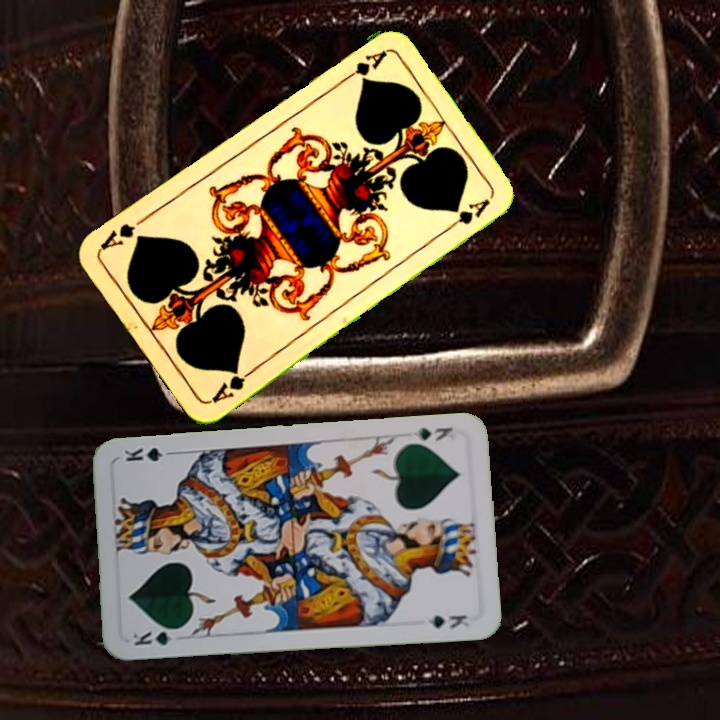GA: (207, 364, 258, 406), (336, 46, 389, 86)
GK: (128, 624, 185, 648), (410, 423, 456, 443)
